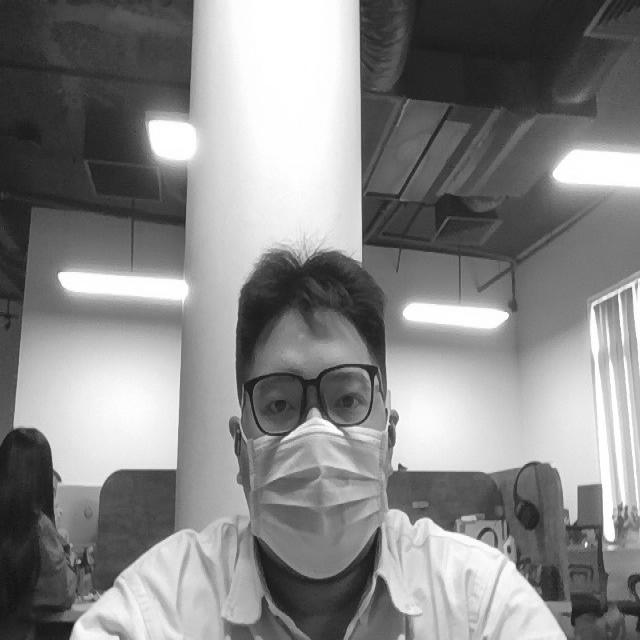fake: (239, 417, 394, 577)
real: (220, 207, 405, 602), (248, 355, 383, 430)
